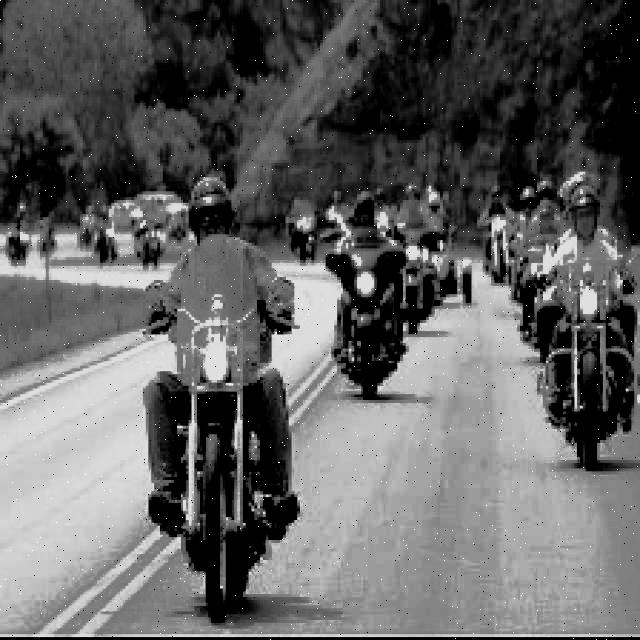Bike: (159, 308, 285, 639), (556, 270, 639, 494), (337, 229, 409, 411)
